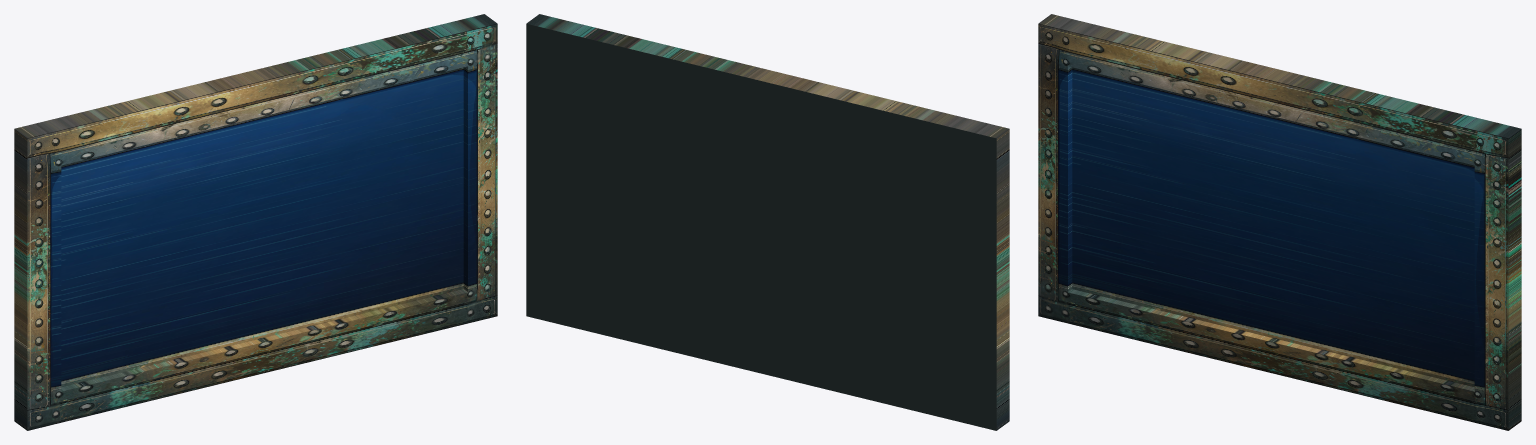
The model's file is panel_card.glb.
3 views of the same model, side by side, from view 1: azimuth 30°, elevation 25°; view 2: azimuth 150°, elevation 25°; view 3: azimuth 330°, elevation 25° (orthographic).
Visible parts, largest first — view 1: panel_card; view 2: panel_card; view 3: panel_card.
Boxes of the visible parts, x1,y1,x2,y2 form: panel_card: [14, 14, 497, 430]; panel_card: [526, 14, 1009, 430]; panel_card: [1038, 14, 1521, 430].
Size of the model in its own units: 0.74 by 0.44 by 0.042.
Materials: 1 (1 with a texture image).
